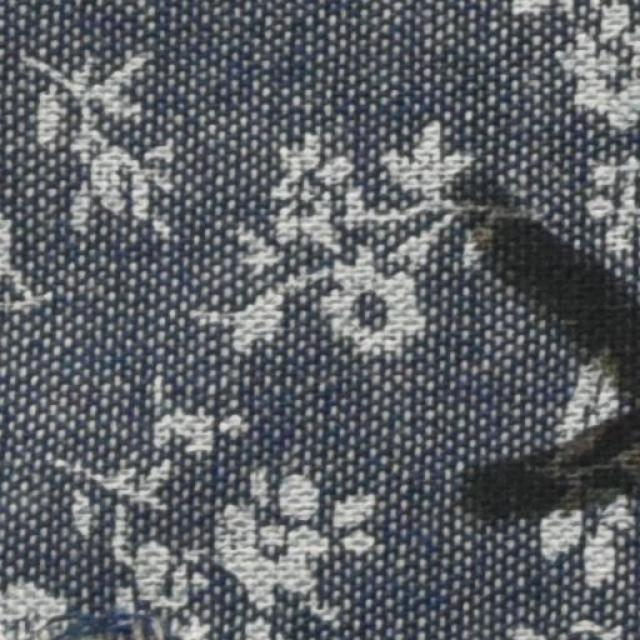Stain: (455, 179, 639, 533)
